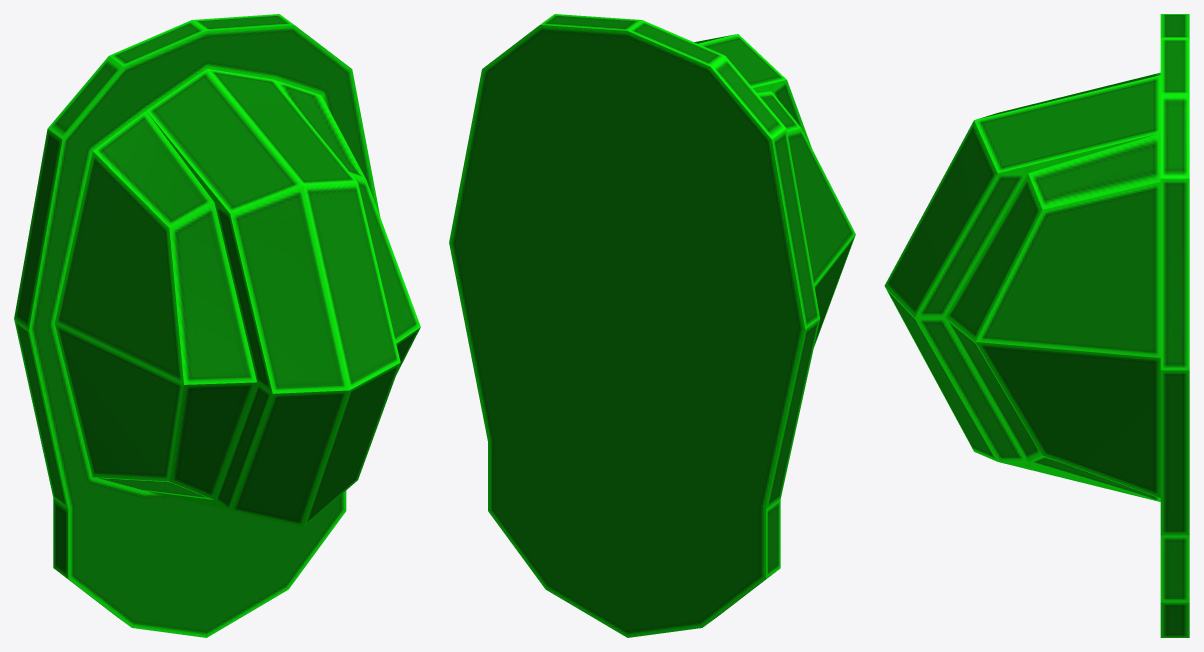
The model's file is BuilderHat.obj.
The picture shows the model from 3 angles, left to right: view 1: azimuth 30°, elevation 25°; view 2: azimuth 150°, elevation 25°; view 3: azimuth 270°, elevation 25°; orthographic projection. The views are drawn at different scales.
Visible parts, largest first — view 1: polySurface72; view 2: polySurface72; view 3: polySurface72.
Boxes of the visible parts, x1,y1,x2,y2 form: polySurface72: [14, 14, 420, 637]; polySurface72: [449, 14, 855, 637]; polySurface72: [884, 14, 1189, 637].
Bounding box in the file's own units: 1.47 × 2.39 × 1.12.
